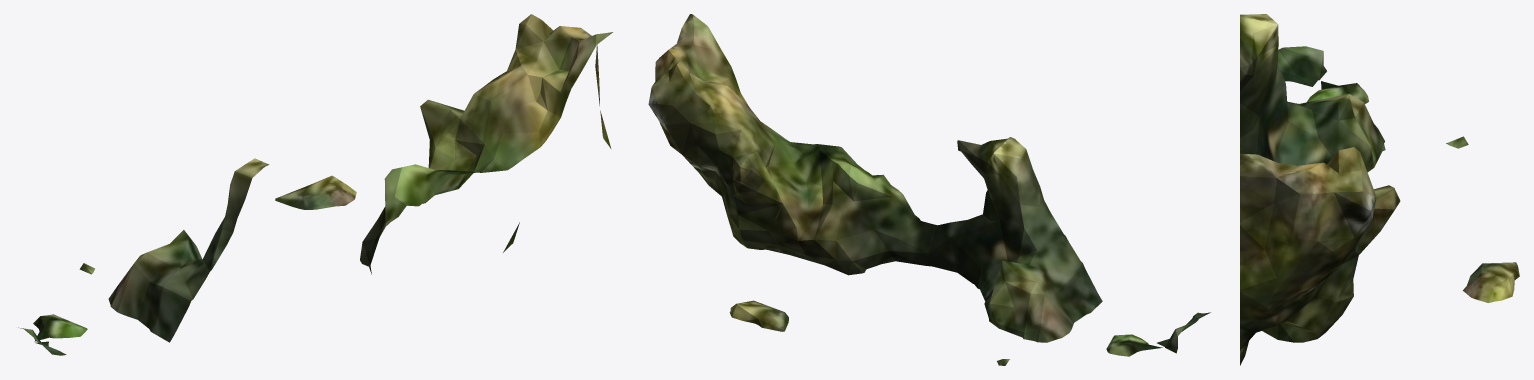
3 renders of one model, left to right at view 1: azimuth 30°, elevation 25°; view 2: azimuth 150°, elevation 25°; view 3: azimuth 270°, elevation 25°, orthographic. The views are drawn at different scales.
Size of the model in its own units: 1.59 by 0.5371 by 0.5834.
Materials: 1 (1 with a texture image).
